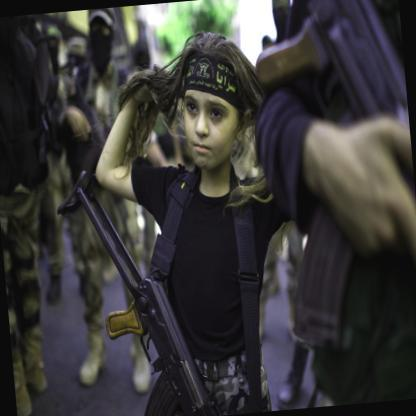rifle: (240, 0, 416, 355), (52, 158, 221, 416)
